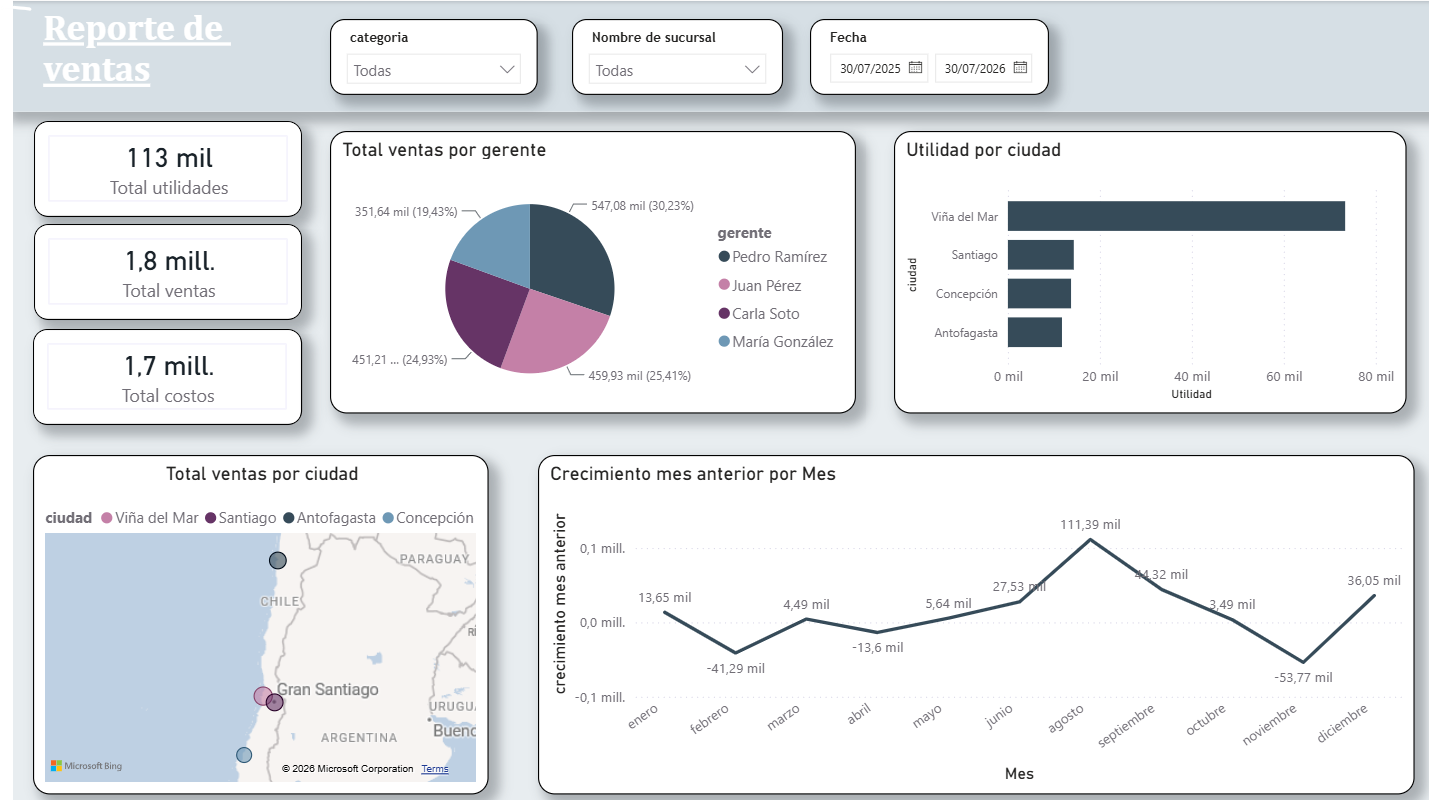

This screenshot's page, from the dashboard's own definition file:
{"tool":"powerbi","page":{"name":"Página 1","canvas":[1280,720],"ordinal":0},"visuals":[{"type":"textbox","box":[0,0,1279.7,99.4],"z":0},{"type":"cardVisual","fields":{"Data":["costos.Utilidad"]},"box":[26,107.5,240,86],"z":1000},{"type":"cardVisual","fields":{"Data":["costos.total ventas"]},"box":[26,199.7,240,86],"z":2000},{"type":"cardVisual","fields":{"Data":["costos.Total costos"]},"box":[25.1,293.7,240.9,86],"z":3000},{"type":"lineChart","title":"Crecimiento mes anterior por Mes","fields":{"Category":["calendario.Date.Variación.Jerarquía de fechas.Mes"],"Y":["costos.crecimiento mes anterior"]},"box":[477.3,406.6,785.4,304.5],"z":4000},{"type":"map","title":"Total ventas por ciudad ","fields":{"Size":["costos.total ventas"],"Category":["sucursales.ciudad"],"Series":["sucursales.ciudad"]},"box":[25.1,406.6,408.4,304.5],"z":5000},{"type":"barChart","fields":{"Category":["sucursales.ciudad"],"Y":["costos.Utilidad"]},"box":[796.1,116.4,459.4,252.5],"z":7000},{"type":"slicer","fields":{"Values":["sucursales.nombre_sucursal"]},"box":[507.8,16.1,189,68.1],"z":8000},{"type":"slicer","fields":{"Values":["productos.categoria"]},"box":[291,16.1,186.3,68.1],"z":9000},{"type":"pieChart","fields":{"Y":["costos.Total ventas"],"Category":["sucursales.gerente"]},"box":[291,116.4,471,252.5],"z":10000},{"type":"slicer","fields":{"Values":["calendario.Date"]},"box":[720.9,16.1,214,68.1],"z":11000}]}

Visuals, with their boxes in screenshot pixels (x1, y1, x2, y2), scaled from the page's 1280x720 canvas onto the 1429x800 screenshot:
textbox: pyautogui.locateOnScreen(0, 0, 1428, 110)
cardVisual - costos.Utilidad: pyautogui.locateOnScreen(29, 119, 297, 215)
cardVisual - costos.total ventas: pyautogui.locateOnScreen(29, 222, 297, 317)
cardVisual - costos.Total costos: pyautogui.locateOnScreen(28, 326, 297, 422)
"Crecimiento mes anterior por Mes" lineChart: pyautogui.locateOnScreen(533, 452, 1410, 790)
"Total ventas por ciudad " map: pyautogui.locateOnScreen(28, 452, 484, 790)
barChart - sucursales.ciudad x costos.Utilidad: pyautogui.locateOnScreen(889, 129, 1402, 410)
slicer - sucursales.nombre_sucursal: pyautogui.locateOnScreen(567, 18, 778, 94)
slicer - productos.categoria: pyautogui.locateOnScreen(325, 18, 533, 94)
pieChart - costos.Total ventas x sucursales.gerente: pyautogui.locateOnScreen(325, 129, 851, 410)
slicer - calendario.Date: pyautogui.locateOnScreen(805, 18, 1044, 94)
